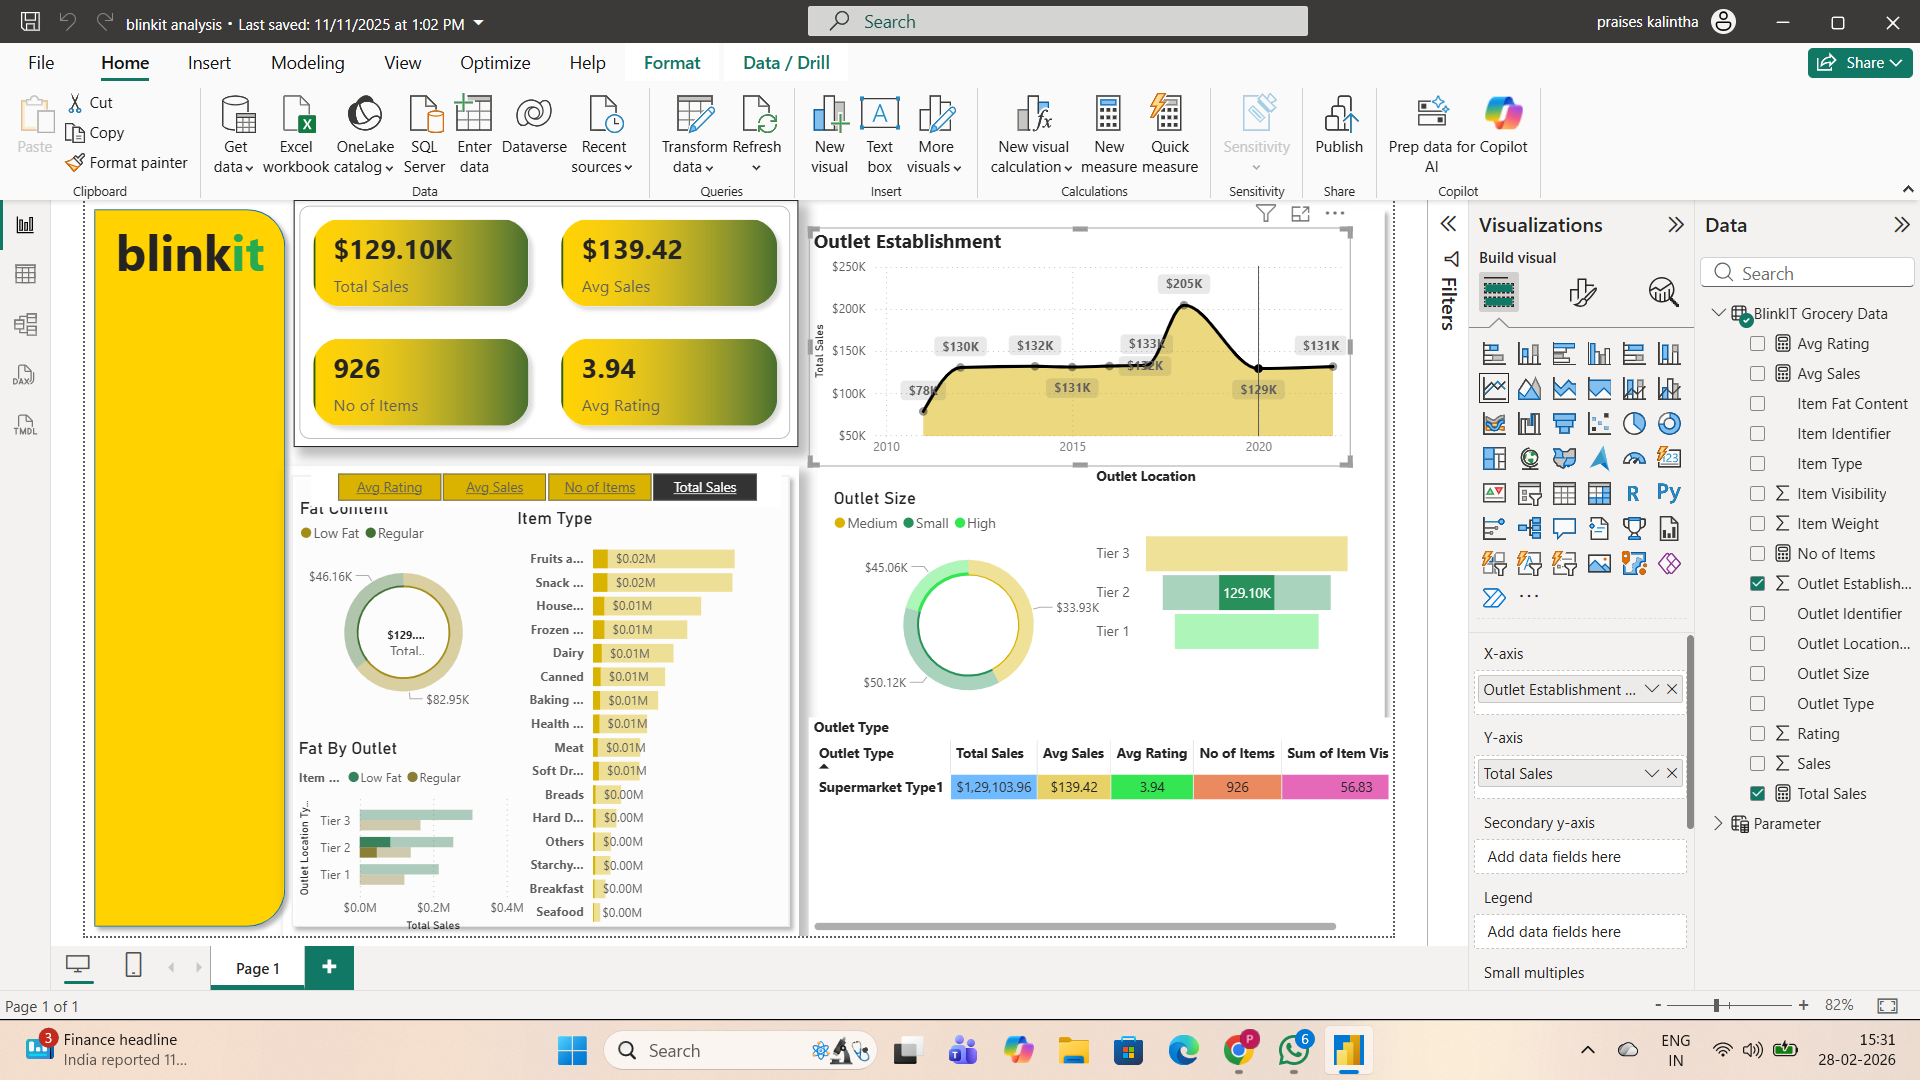

The dashboard page shown, as its layout file describes it:
{"tool":"powerbi","page":{"name":"Page 1","canvas":[1280,720],"ordinal":0},"visuals":[{"type":"shape","box":[0,0,205,720],"z":0},{"type":"textbox","box":[12.3,12.3,181.1,78.2],"z":1000},{"type":"cardVisual","fields":{"Data":["BlinkIT Grocery Data.Total Sales","BlinkIT Grocery Data.Avg Sales","BlinkIT Grocery Data.No of Items","BlinkIT Grocery Data.Avg Rating"]},"box":[204.5,0,494,241.5],"z":2000},{"type":"shape","box":[193.5,260.7,505,459.7],"z":3000},{"type":"donutChart","title":"Fat Content","fields":{"Y":["BlinkIT Grocery Data.Total Sales"],"Category":["BlinkIT Grocery Data.Item Fat Content"]},"box":[205.8,290.9,212.7,219.6],"z":4000},{"type":"slicer","fields":{"Values":["Parameter.Parameter"]},"box":[220.9,260.7,459.7,39.8],"z":5000},{"type":"cardVisual","fields":{"Data":["BlinkIT Grocery Data.Total Sales"]},"box":[275.8,400.7,72.7,49.4],"z":6000},{"type":"clusteredBarChart","title":"Fat By Outlet","fields":{"Y":["BlinkIT Grocery Data.Total Sales"],"Category":["BlinkIT Grocery Data.Outlet Location Type"],"Series":["BlinkIT Grocery Data.Item Fat Content"]},"box":[204.5,525.6,230.5,194.9],"z":7000},{"type":"barChart","title":"Item Type","fields":{"Y":["BlinkIT Grocery Data.Total Sales"],"Category":["BlinkIT Grocery Data.Item Type"]},"box":[418.5,300.5,263.5,419.9],"z":8000},{"type":"shape","box":[708.1,0,572.2,720.4],"z":9000},{"type":"lineChart","title":"Outlet Establishment ","fields":{"Category":["BlinkIT Grocery Data.Outlet Establishment Year"],"Y":["BlinkIT Grocery Data.Total Sales"]},"box":[708.1,27.4,531,233.3],"z":10000},{"type":"donutChart","title":"Outlet Size","fields":{"Y":["BlinkIT Grocery Data.Total Sales"],"Category":["BlinkIT Grocery Data.Outlet Size"]},"box":[727.3,281.3,274,225],"z":11000},{"type":"funnel","title":"Outlet Location","fields":{"Y":["Sum(BlinkIT Grocery Data.Sales)"],"Category":["BlinkIT Grocery Data.Outlet Location Type"]},"box":[983.9,260.7,261,230],"z":12000},{"type":"pivotTable","title":"Outlet Type","fields":{"Rows":["BlinkIT Grocery Data.Outlet Type"],"Values":["BlinkIT Grocery Data.Total Sales","BlinkIT Grocery Data.Avg Sales","BlinkIT Grocery Data.Avg Rating","BlinkIT Grocery Data.No of Items","Sum(BlinkIT Grocery Data.Item Visibility)"]},"box":[708.1,506.3,572.2,214.1],"z":13000}]}

Visuals, with their boxes on the page's 1280x720 design canvas (x1, y1, x2, y2). These are canvas units, not pixel positions in the 1920x1080 screenshot, which may show the page scaled, cropped or inside an application window:
shape: (0,0,205,720)
textbox: (12,12,193,90)
cardVisual - BlinkIT Grocery Data.Total Sales x BlinkIT Grocery Data.Avg Sales: (204,0,698,242)
shape: (194,261,698,720)
"Fat Content" donutChart: (206,291,418,510)
slicer - Parameter.Parameter: (221,261,681,300)
cardVisual - BlinkIT Grocery Data.Total Sales: (276,401,348,450)
"Fat By Outlet" clusteredBarChart: (204,526,435,720)
"Item Type" barChart: (418,300,682,720)
shape: (708,0,1280,720)
"Outlet Establishment " lineChart: (708,27,1239,261)
"Outlet Size" donutChart: (727,281,1001,506)
"Outlet Location" funnel: (984,261,1245,491)
"Outlet Type" pivotTable: (708,506,1280,720)
